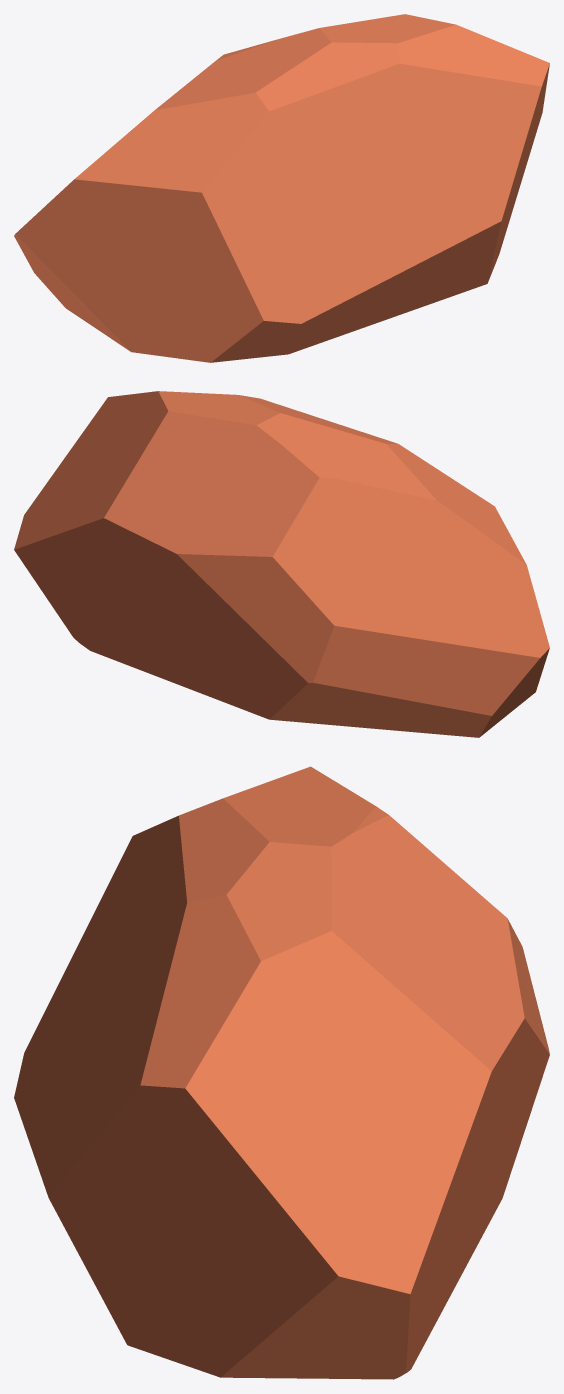
File: Rock_V06.fbx
The picture shows the model from 3 angles, top to bottom: view 1: azimuth 30°, elevation 25°; view 2: azimuth 150°, elevation 25°; view 3: azimuth 270°, elevation 25°; orthographic projection. The views are drawn at different scales.
Visible parts, largest first — view 1: Rock_06; view 2: Rock_06; view 3: Rock_06.
Boxes of the visible parts, x1,y1,x2,y2 form: Rock_06: (14,14,549,362); Rock_06: (14,391,549,737); Rock_06: (14,766,549,1379).
Size of the model in its own units: 238 by 104 by 124.
